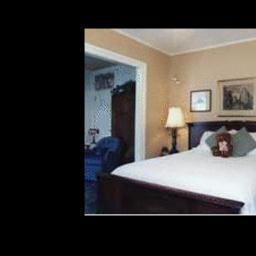Armario: (111, 90, 135, 163)
